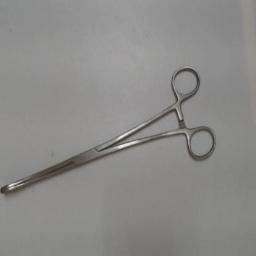Sponge Forceps: (1, 64, 221, 204)
